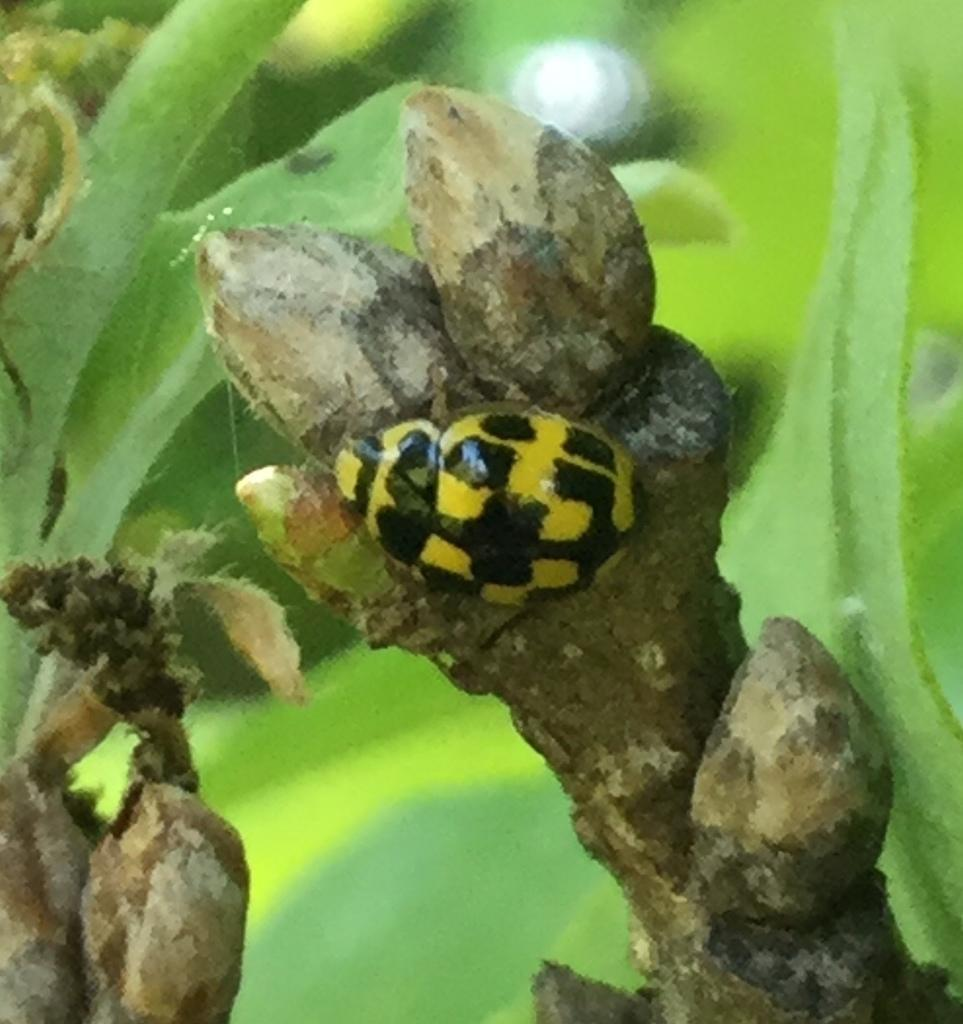ladybug: (326, 379, 654, 619)
